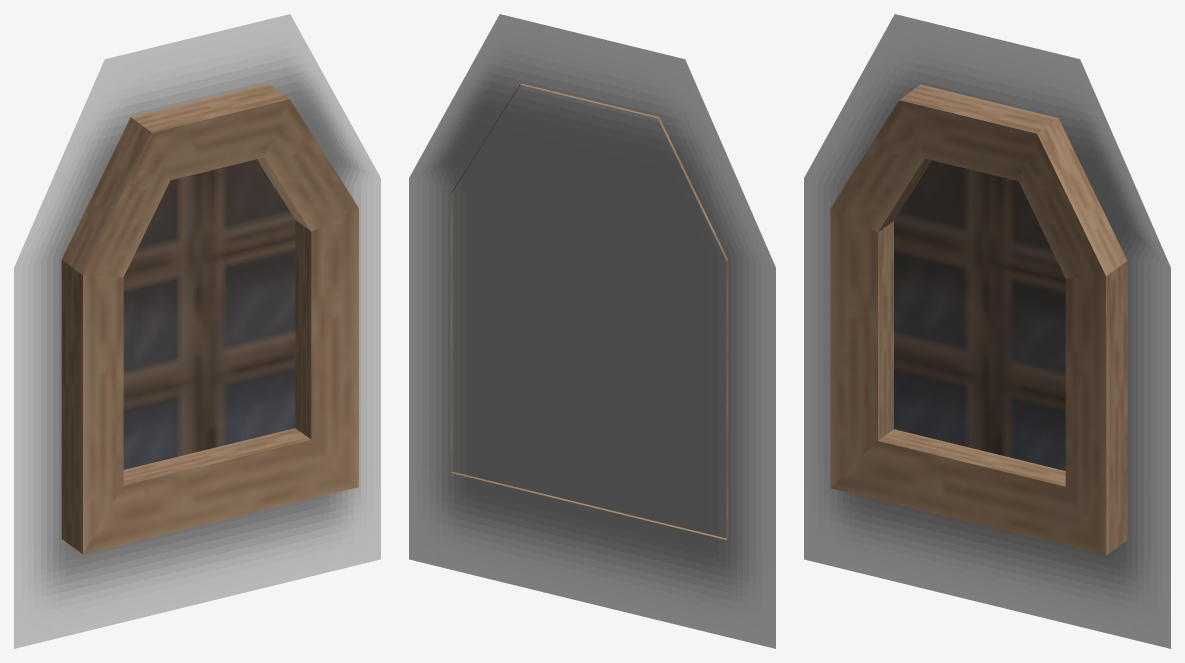
The model's file is School window2.fbx.
3 renders of one model, left to right at view 1: azimuth 30°, elevation 25°; view 2: azimuth 150°, elevation 25°; view 3: azimuth 330°, elevation 25°, orthographic.
Visible parts, largest first — view 1: obj, shadow; view 2: shadow, obj; view 3: obj, shadow.
Boxes of the visible parts, box(x1,y1,x2,y2) form: obj: box(61, 83, 358, 554); shadow: box(14, 14, 380, 648); shadow: box(409, 14, 775, 648); obj: box(450, 83, 728, 539); obj: box(830, 84, 1127, 555); shadow: box(804, 14, 1170, 648).
Bounding box in the file's own units: 0.9433 × 1.39 × 0.1026.
